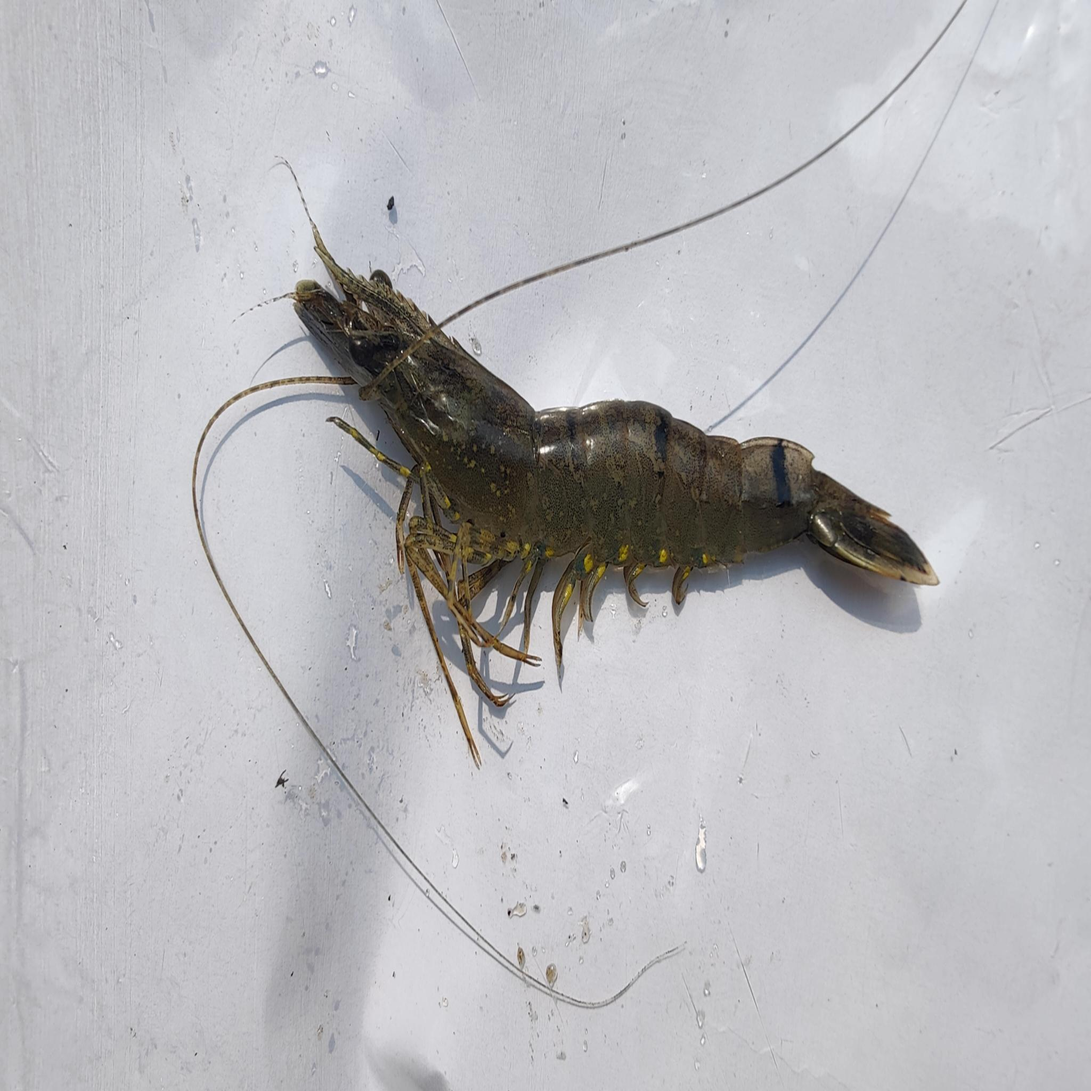whitespot: (404, 415, 527, 537), (428, 349, 541, 434)
